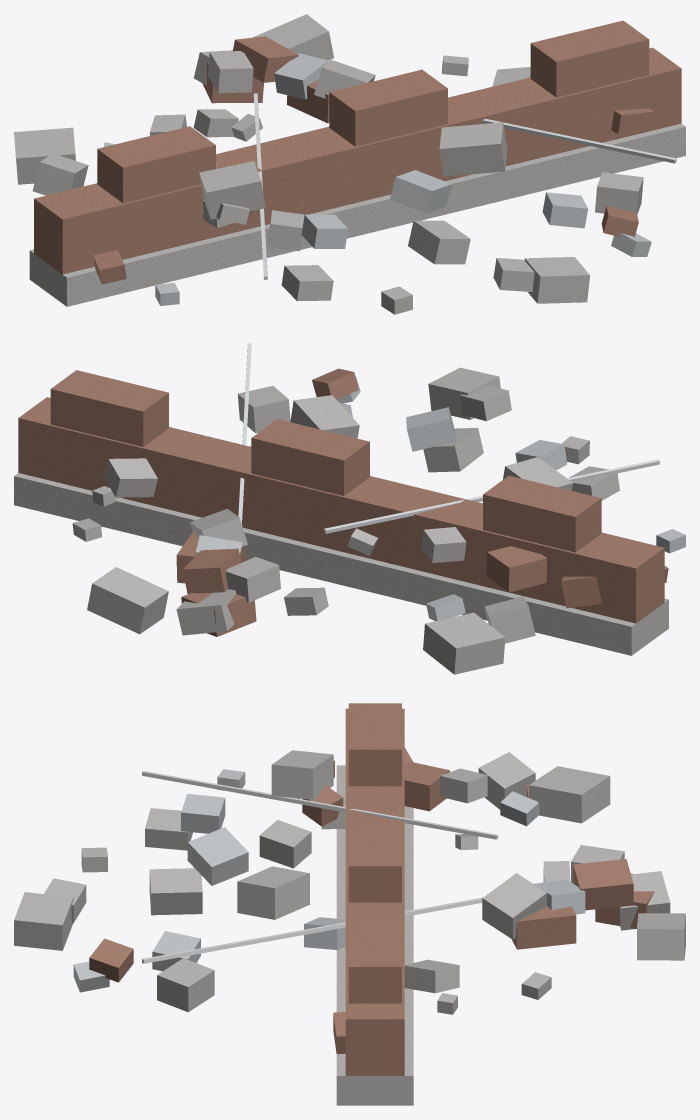
The model's file is demolition-and-site-clearance-demolition-and-site-clea-deca63ab__35676.glb.
3 views of the same model, one above another, from view 1: azimuth 30°, elevation 25°; view 2: azimuth 150°, elevation 25°; view 3: azimuth 270°, elevation 25° (orthographic). The views are drawn at different scales.
Visible parts, largest first — view 1: demolition-and-site-clearance-demolition-wall-section-rubble (×4); view 2: demolition-and-site-clearance-demolition-wall-section-rubble (×4); view 3: demolition-and-site-clearance-demolition-wall-section-rubble (×4).
Part boxes in pixels (bbox=[...]): demolition-and-site-clearance-demolition-wall-section-rubble (×4): bbox=[14, 14, 685, 314]; demolition-and-site-clearance-demolition-wall-section-rubble (×4): bbox=[14, 343, 685, 674]; demolition-and-site-clearance-demolition-wall-section-rubble (×4): bbox=[14, 703, 685, 1105].
Size of the model in its own units: 4 by 0.7399 by 3.66.
4 materials, 2 textured.
